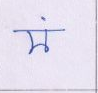anusvara: (41, 17, 46, 21)
